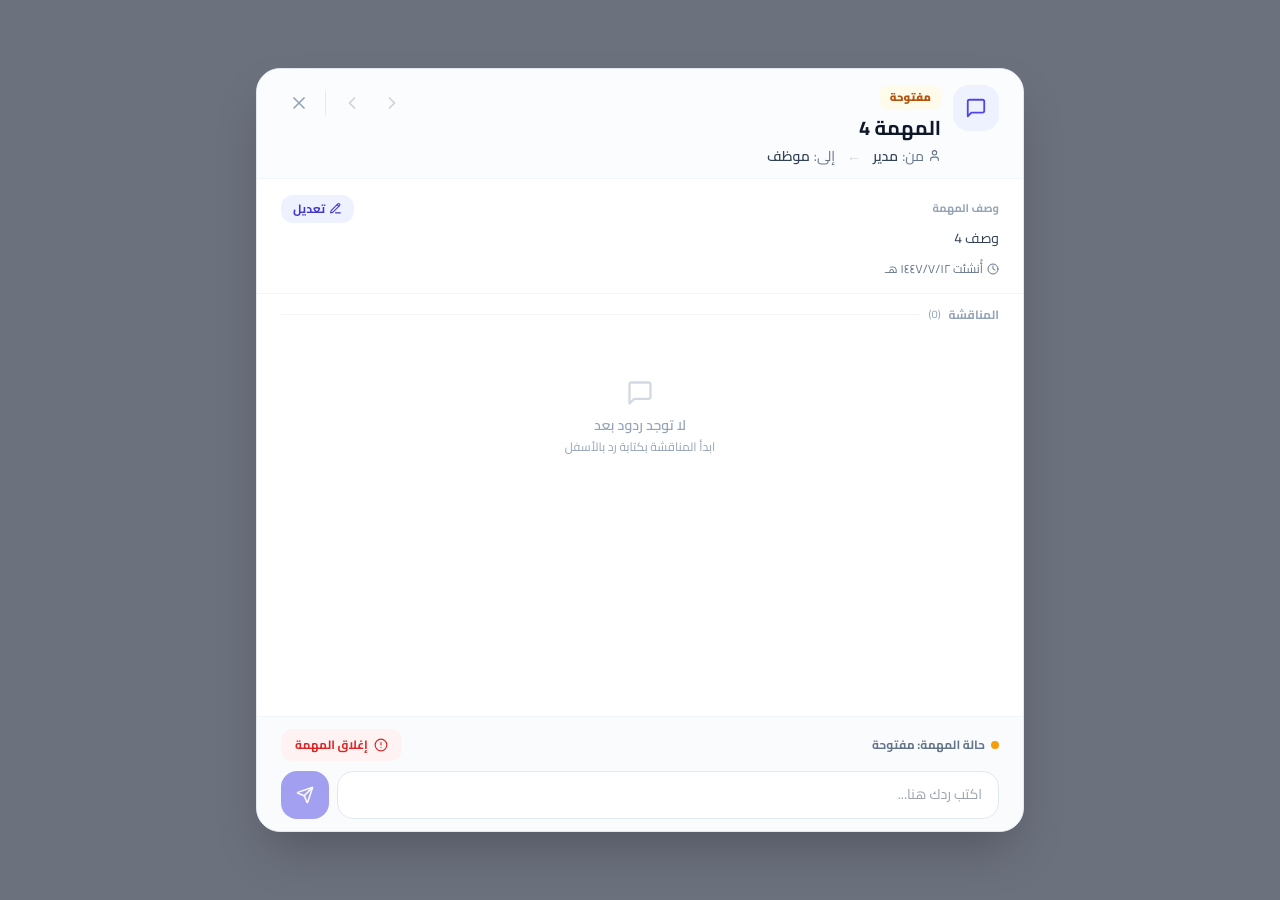
Test: TaskDetailsModal › a failed reply keeps its text and can be retried
In the text box labelled "اكتب ردك": (668, 795) [337,771,999,819], type "نص مهم"
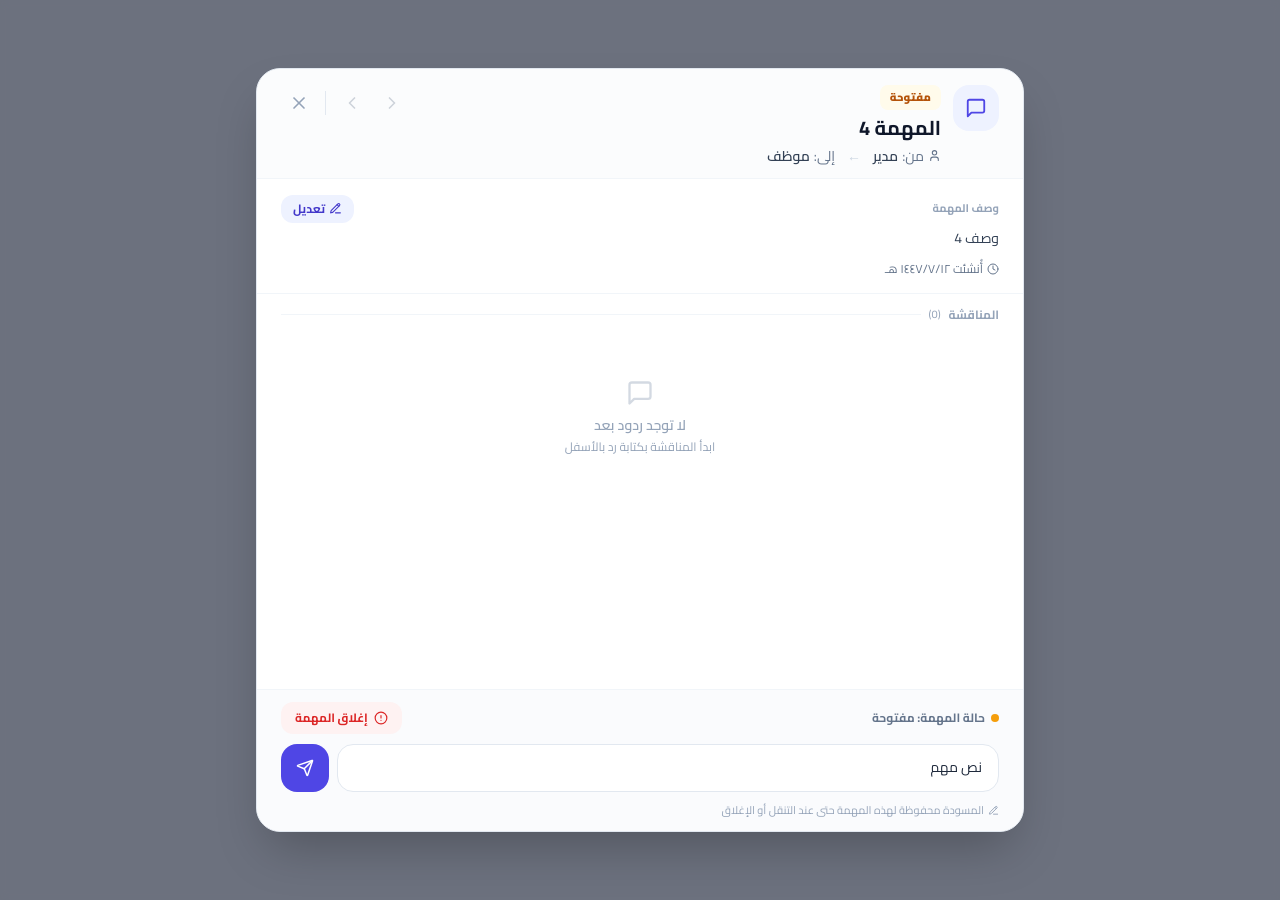
Press Enter in the text box named "اكتب ردك", box [337,744,999,792]
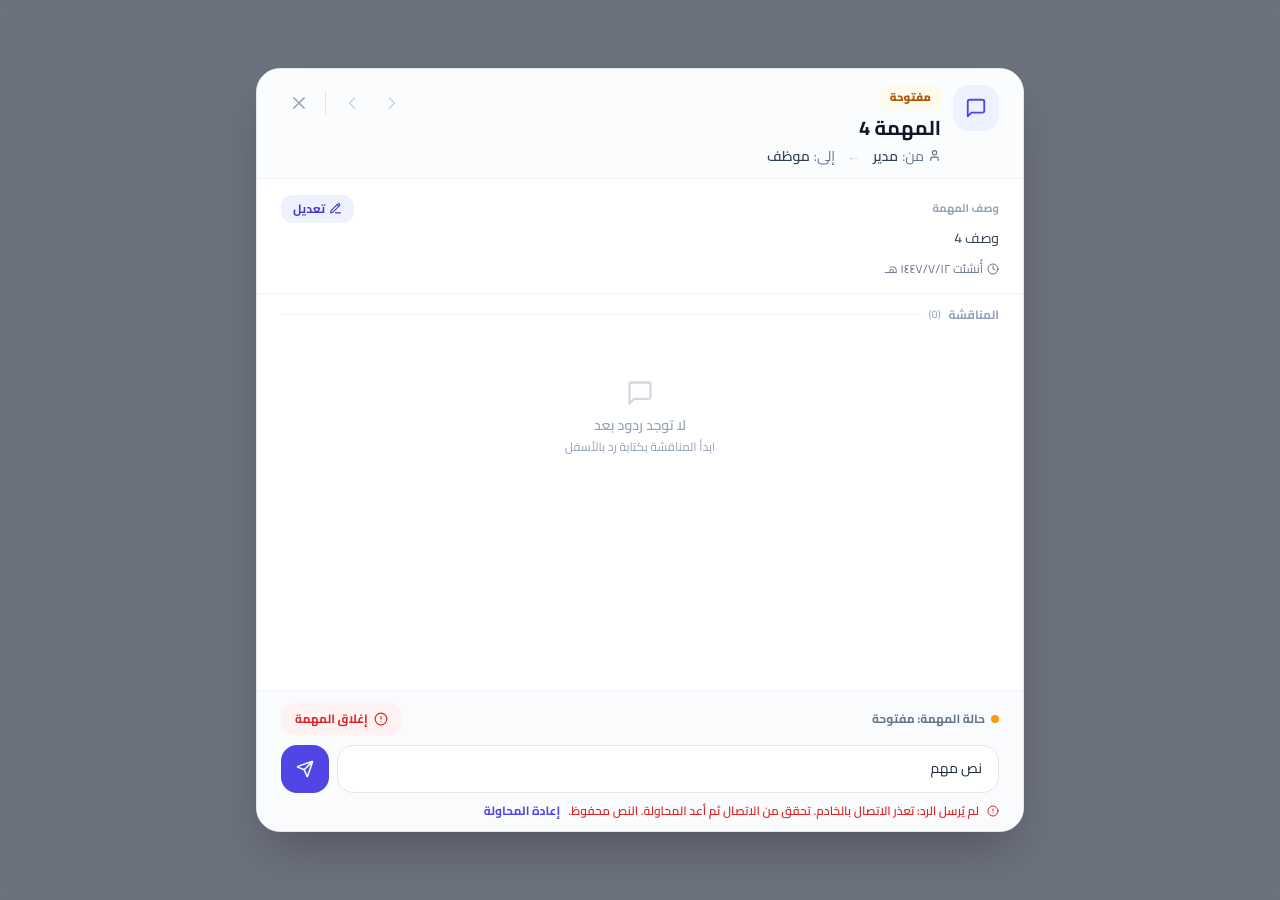
Expected: the text "لم يُرسل الرد" is shown, [914,799,979,822]
Click the button "إعادة المحاولة": (522, 811) [484,803,560,819]
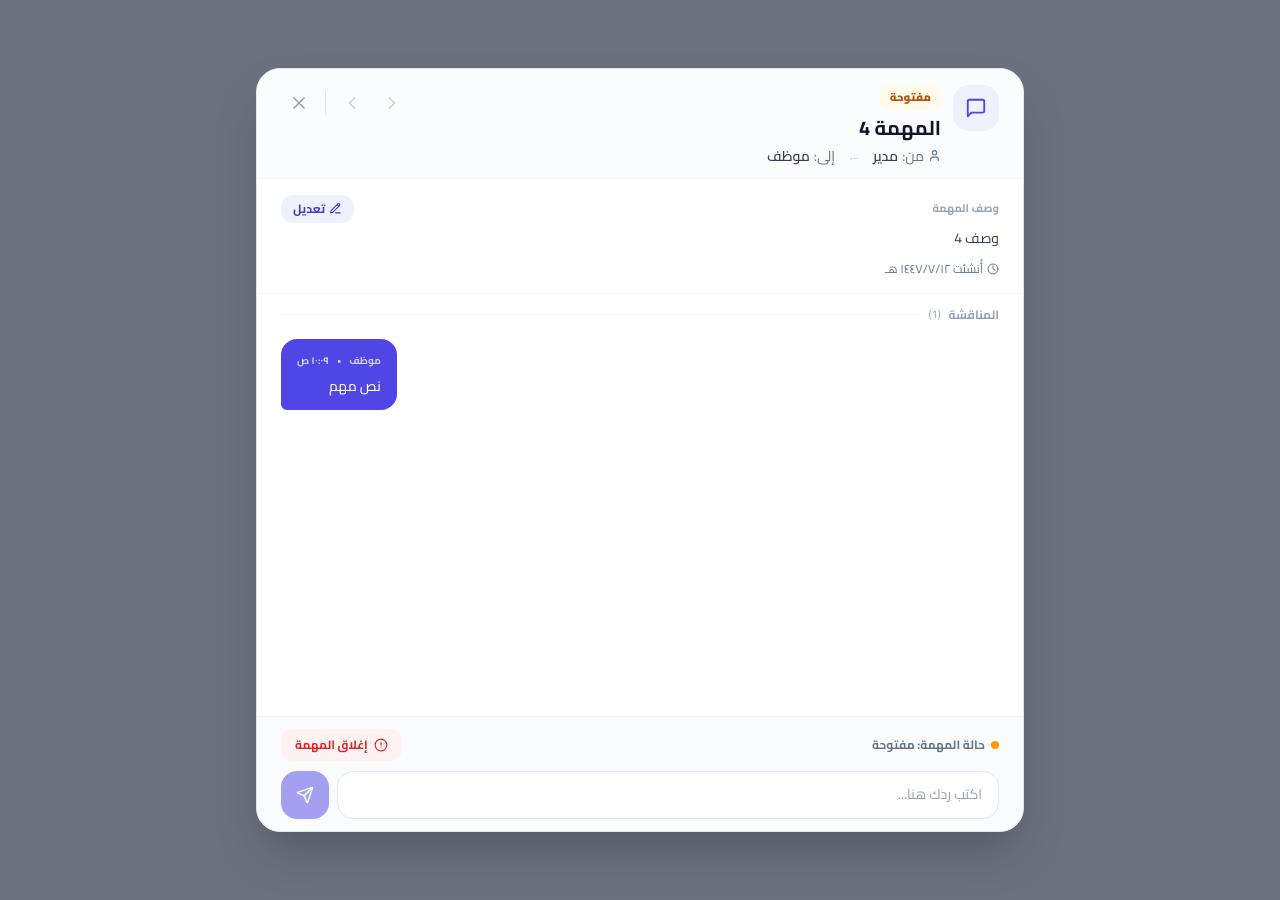
Expected: the text "نص مهم" is shown, [329,373,381,399]
